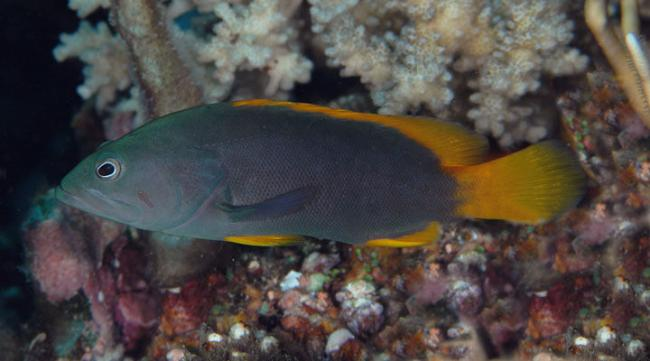fish: (54, 98, 582, 248)
